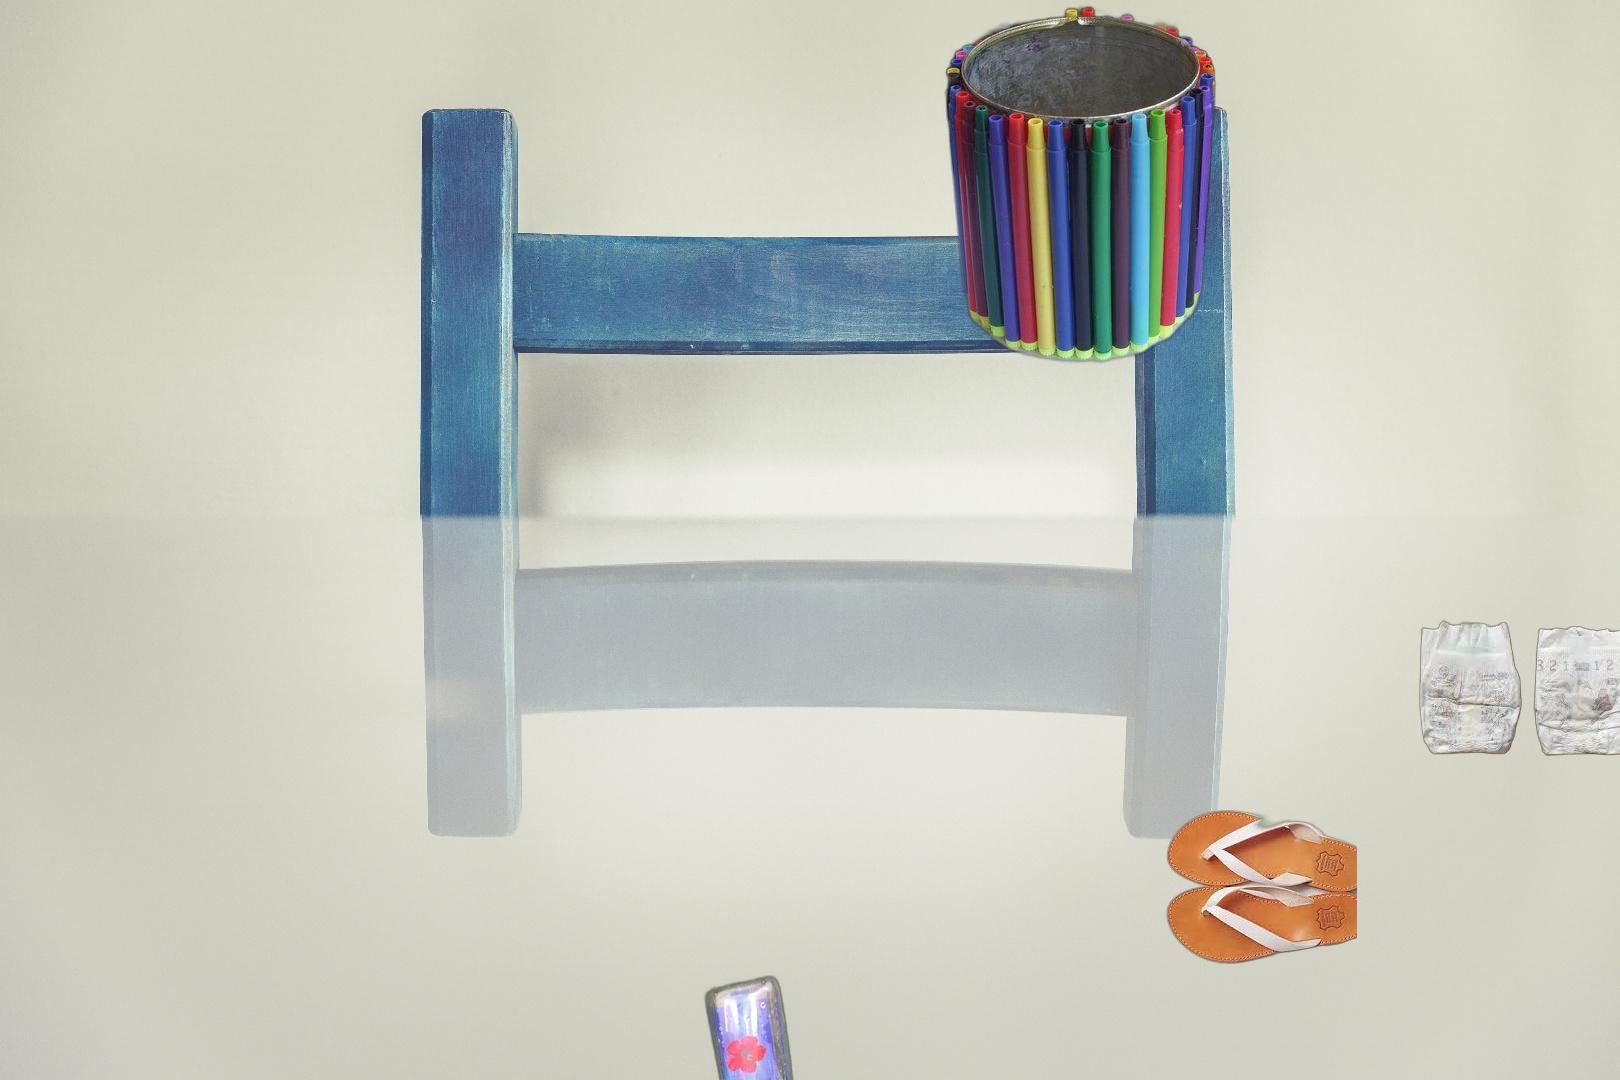penholder: (943, 2, 1220, 366)
plastic-bottles: (374, 972, 805, 1080)
shoes: (1164, 808, 1357, 965)
trash: (1417, 617, 1620, 759)
